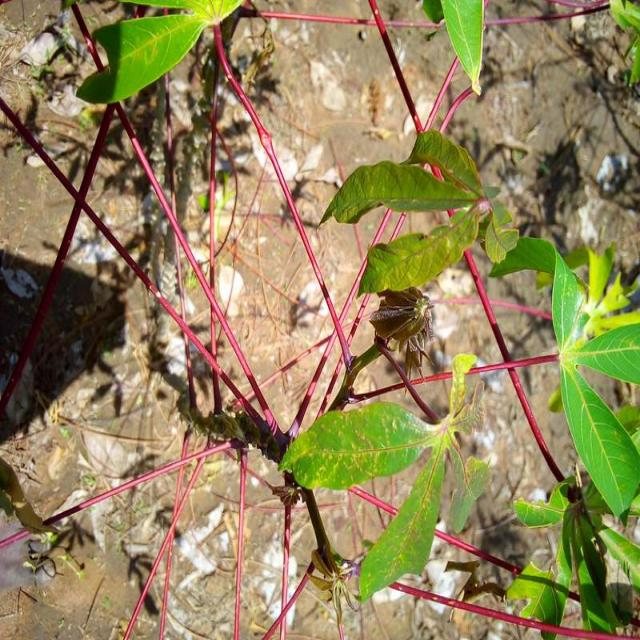cassava leaf: (276, 351, 489, 603), (276, 400, 443, 491), (74, 11, 206, 104), (317, 158, 483, 227), (440, 0, 485, 96)
